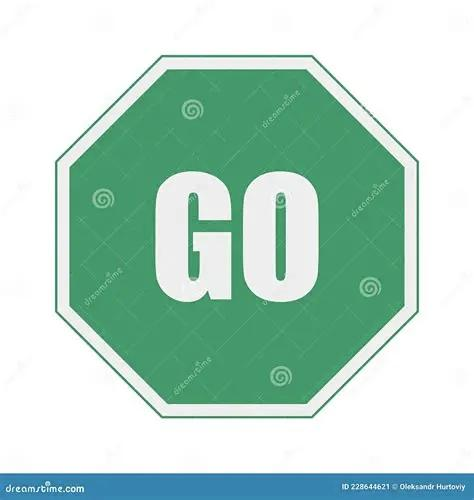Go: (56, 56, 417, 416)
